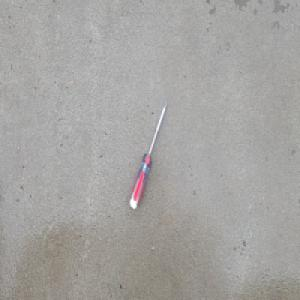Screwdriver: (129, 98, 169, 210)
